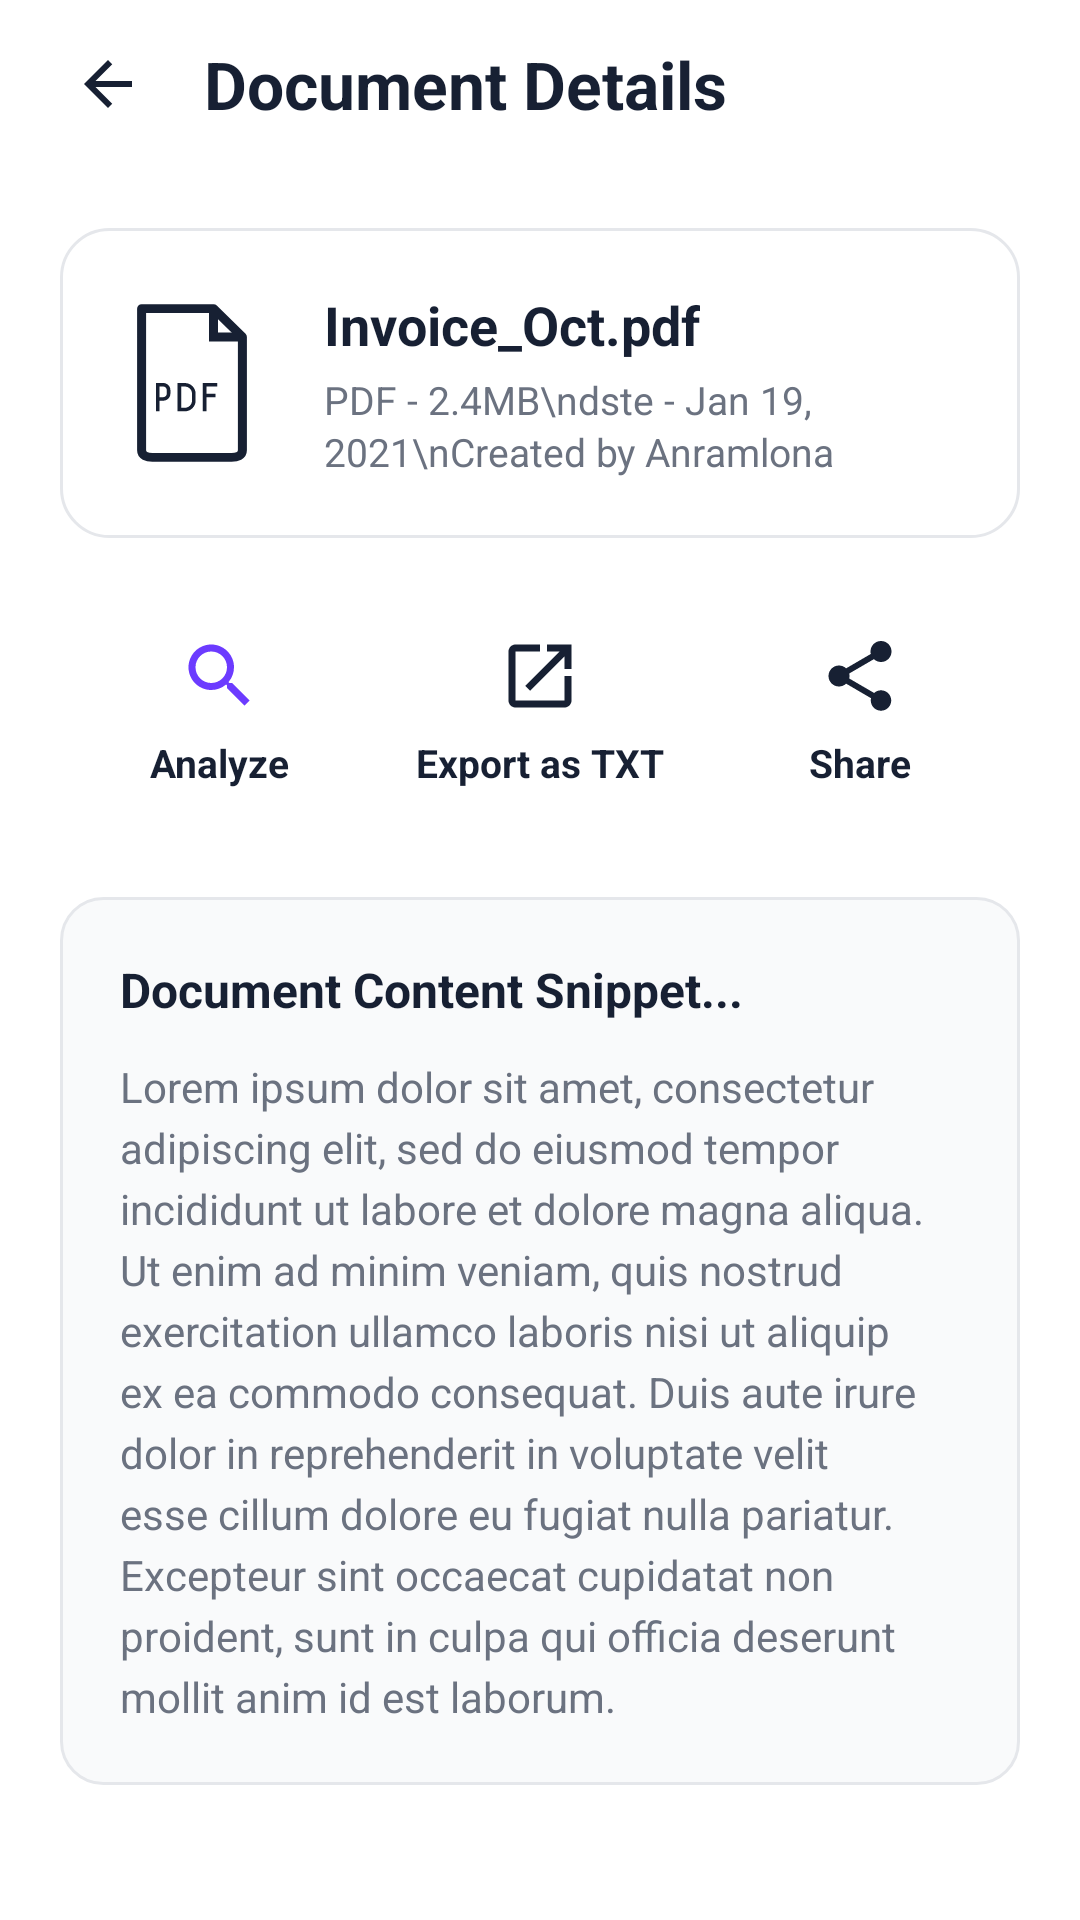

Locate icon controls on the screen. Image size 1080x1920, boxes as bbox=[x1, y1, x2, y2].
Back: bbox=[84, 60, 132, 108]
